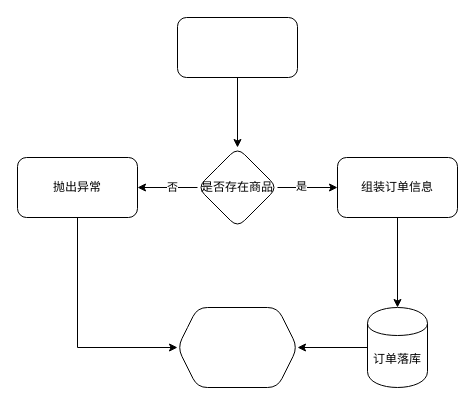
Image size: 475x405. Some labels were removed from this diagram. Here are the shapes that lost their labels. From the top down, the box of each, then its label:
(176, 16, 298, 78): 用户创建ios订单
(176, 306, 298, 388): 结束
